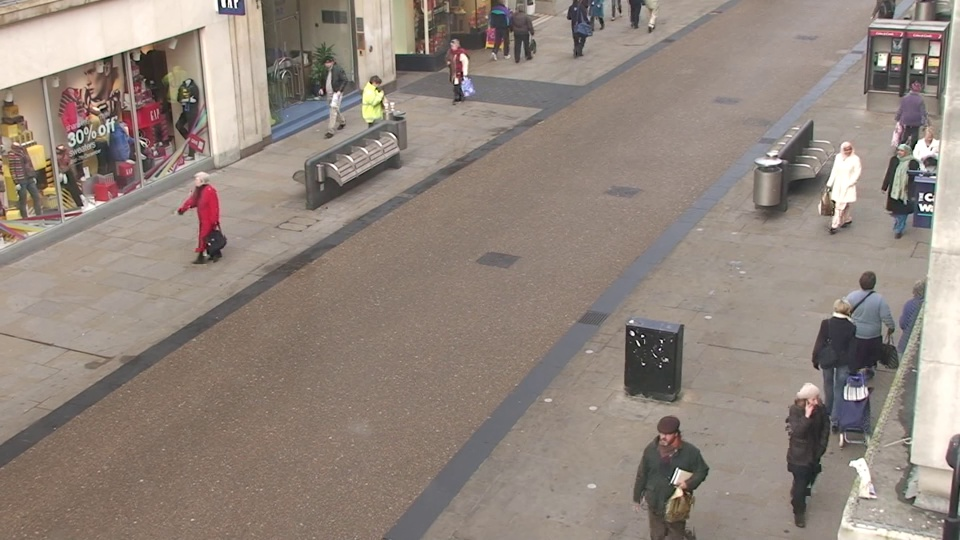pedestrian: (778, 375, 838, 540), (886, 275, 945, 416), (811, 289, 865, 432), (636, 410, 694, 540), (836, 266, 890, 402), (900, 126, 948, 228), (877, 141, 922, 246), (185, 167, 227, 274), (823, 137, 864, 240), (889, 79, 931, 169), (362, 72, 393, 155), (317, 53, 346, 130), (443, 37, 469, 111), (509, 1, 532, 65)
